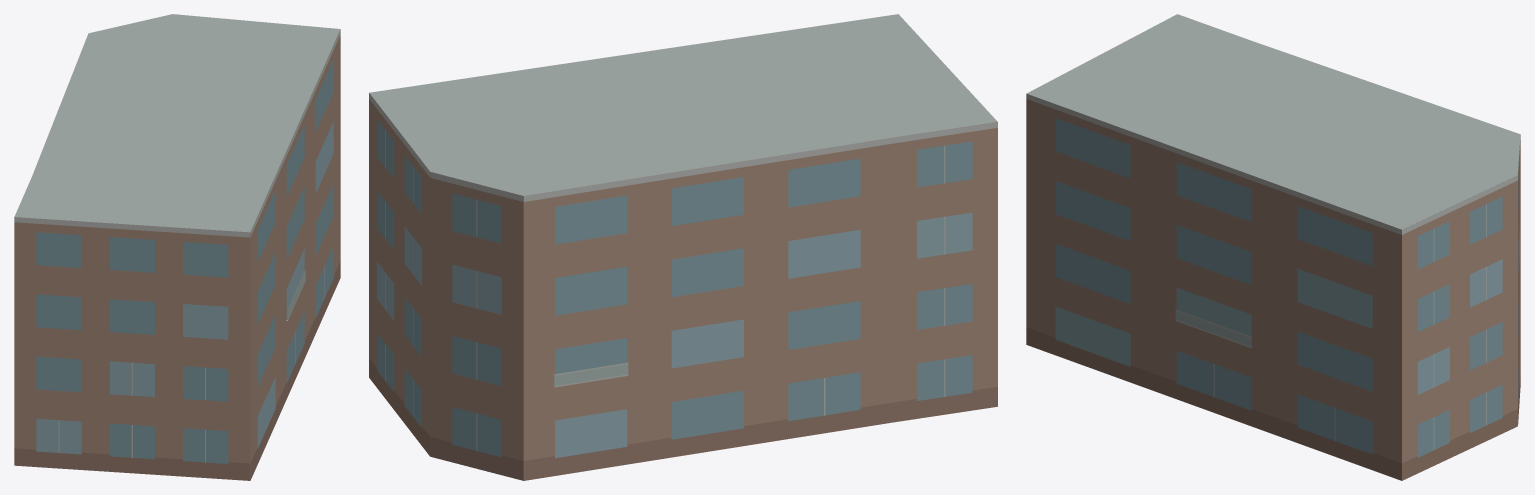
The model's file is survey-upis-32674294.glb.
3 renders of one model, left to right at view 1: azimuth 30°, elevation 25°; view 2: azimuth 150°, elevation 25°; view 3: azimuth 270°, elevation 25°, orthographic. The views are drawn at different scales.
Visible parts, largest first — view 1: survey-upis-32674294.tmp; view 2: survey-upis-32674294.tmp; view 3: survey-upis-32674294.tmp.
Boxes of the visible parts, bbox=[...] form: survey-upis-32674294.tmp: bbox=[14, 14, 340, 480]; survey-upis-32674294.tmp: bbox=[369, 14, 997, 480]; survey-upis-32674294.tmp: bbox=[1026, 14, 1520, 480].
Bounding box in the file's own units: 21.37 × 11.6 × 20.69.
